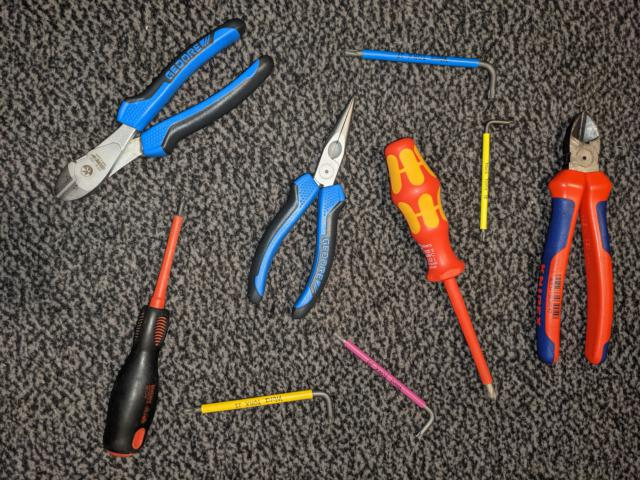Inbusschlüssel: (327, 327, 438, 441), (338, 44, 503, 103), (186, 383, 339, 428), (474, 117, 518, 244)
Schraubendreher: (377, 133, 503, 407), (97, 195, 195, 461)
Seitenschneider: (44, 13, 277, 203), (529, 108, 622, 375)
Zange: (243, 91, 362, 322)
